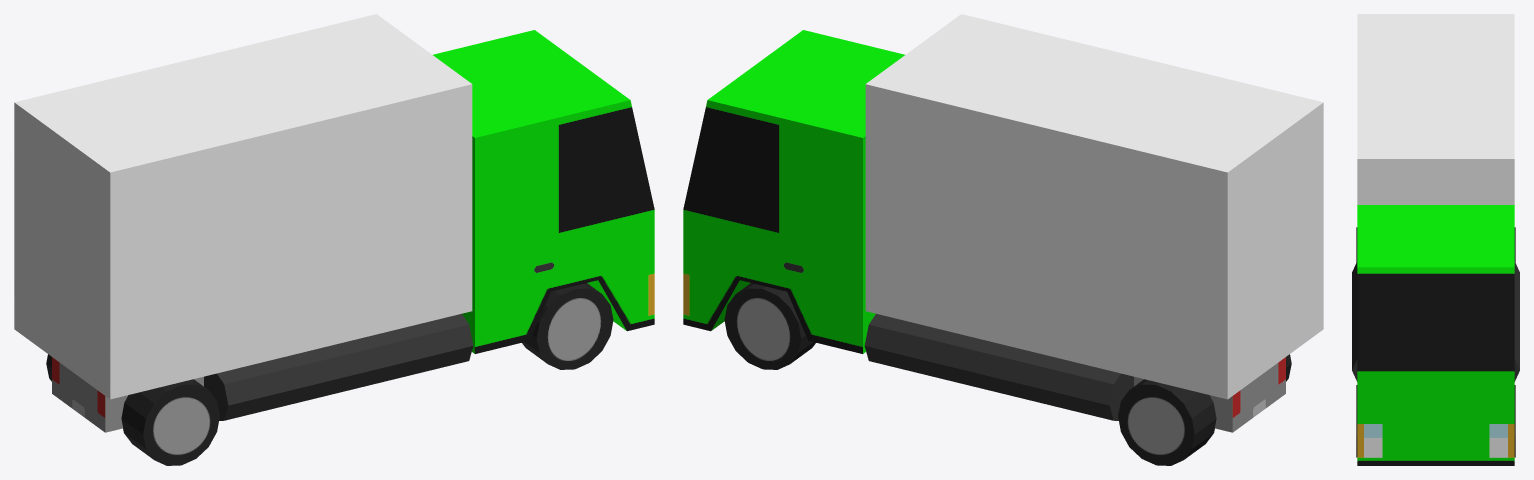
The model's file is semi.dae.
3 views of the same model, side by side, from view 1: azimuth 30°, elevation 25°; view 2: azimuth 150°, elevation 25°; view 3: azimuth 270°, elevation 25° (orthographic). The views are drawn at different scales.
Visible parts, largest first — view 1: Cube; view 2: Cube; view 3: Cube.
Boxes of the visible parts, x1,y1,x2,y2 form: Cube: [14, 14, 654, 465]; Cube: [683, 14, 1323, 465]; Cube: [1352, 14, 1519, 465].
Bounding box in the file's own units: 4.95 × 1.61 × 2.69.
